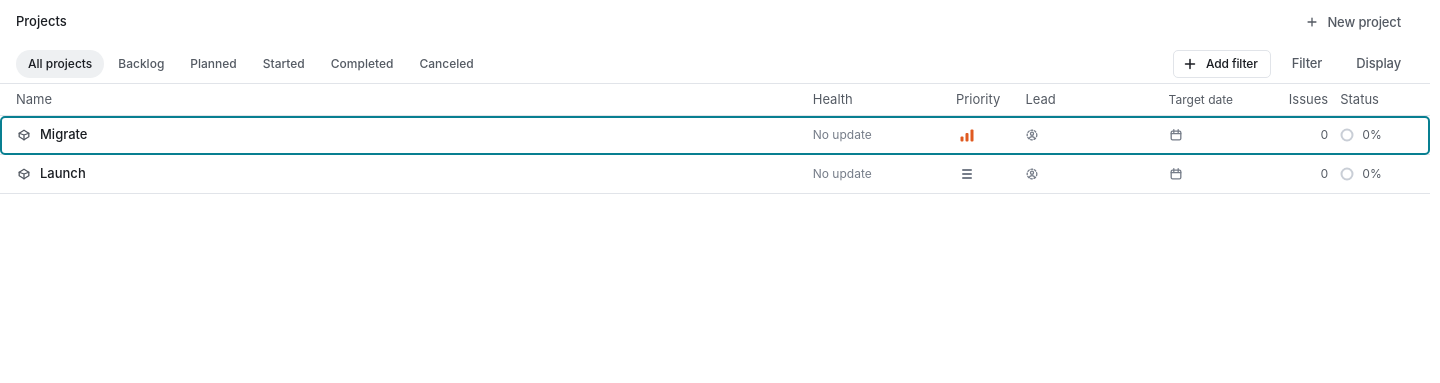
Scenario: Projects row priority › opens the priority picker from the row without opening the project
Click the button named "No priority": (967, 174) [956, 163, 978, 185]
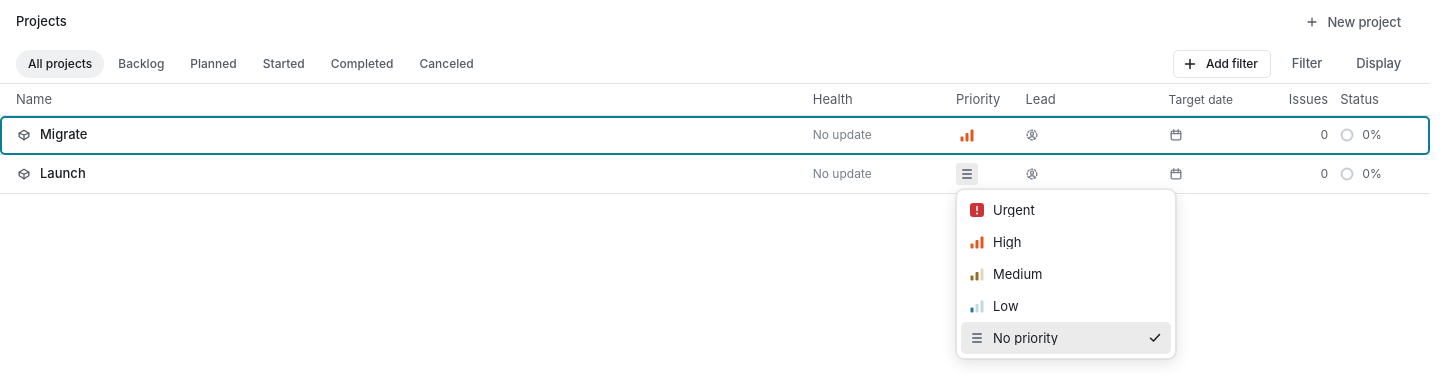
Expected: the link "Launch No update 0 0%" is shown, [0, 155, 1430, 194]
Expected: the menu "priority" is shown, [961, 194, 1171, 354]
